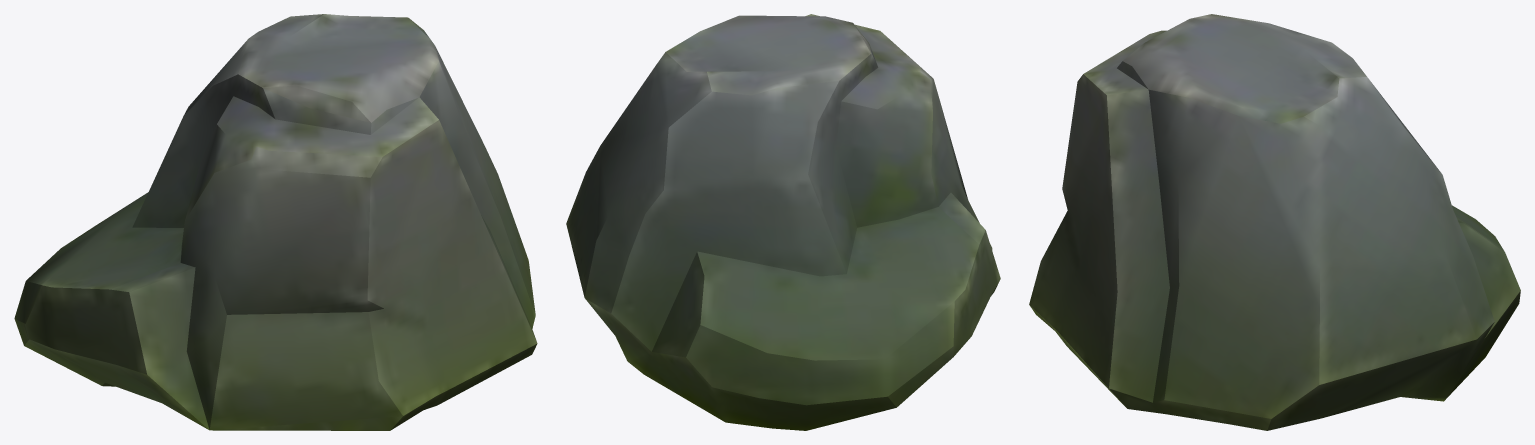
The model's file is Rock_Medium_1.glb.
The picture shows the model from 3 angles, left to right: view 1: azimuth 30°, elevation 25°; view 2: azimuth 150°, elevation 25°; view 3: azimuth 270°, elevation 25°; orthographic projection. The views are drawn at different scales.
Parts seen in each view (by area): view 1: Rock_Medium_1; view 2: Rock_Medium_1; view 3: Rock_Medium_1.
Part boxes in pixels (<box>): Rock_Medium_1: <box>14,14,537,430</box>; Rock_Medium_1: <box>566,14,1000,430</box>; Rock_Medium_1: <box>1029,14,1520,430</box>.
Bounding box in the file's own units: 3.23 × 2.26 × 2.99.
1 material, 1 textured.
